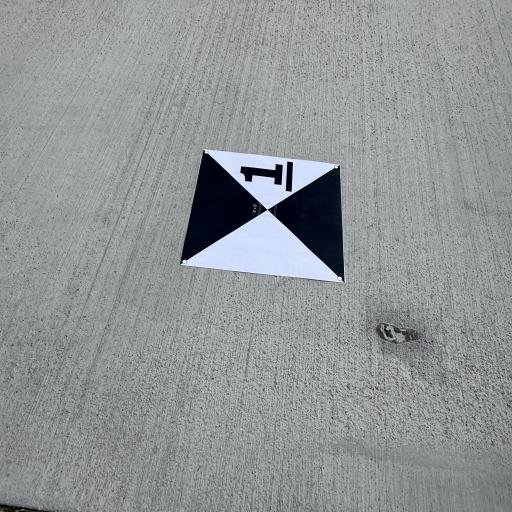target1: (177, 140, 356, 274)
